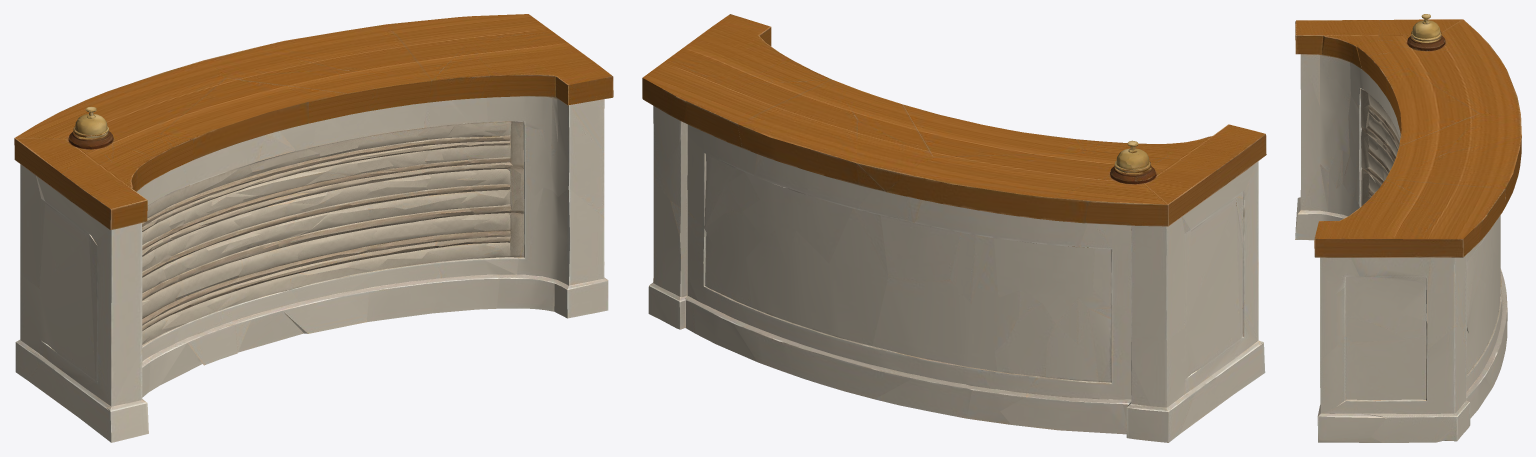
File: barCounter.glb
3 views of the same model, side by side, from view 1: azimuth 30°, elevation 25°; view 2: azimuth 150°, elevation 25°; view 3: azimuth 270°, elevation 25° (orthographic). The views are drawn at different scales.
Parts seen in each view (by area): view 1: Mesh_0; view 2: Mesh_0; view 3: Mesh_0.
Boxes of the visible parts, box(x1,y1,x2,y2) form: Mesh_0: box(14, 14, 613, 442); Mesh_0: box(642, 14, 1266, 442); Mesh_0: box(1295, 14, 1521, 442).
Size of the model in its own units: 1.83 by 0.9102 by 0.8.
1 material, 1 textured.
